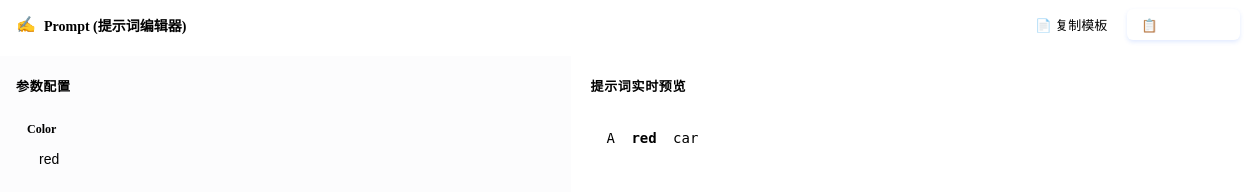
it: PromptBlock › changing input value updates preview text in real time
Replace the text in the field with placeholder "请输入 color..." with "blue" at coordinates (281, 159), box [27,143,536,175]
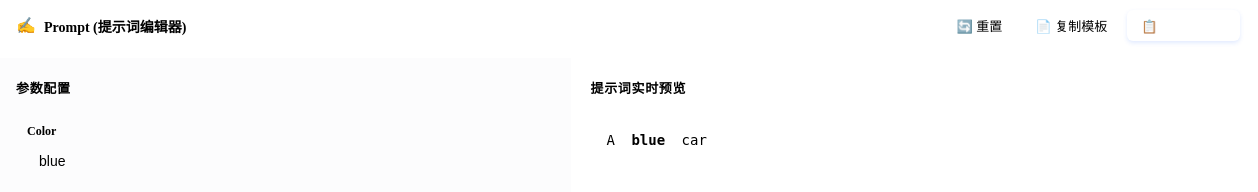
Now the text "blue" is shown, box [631,132,665,148]
